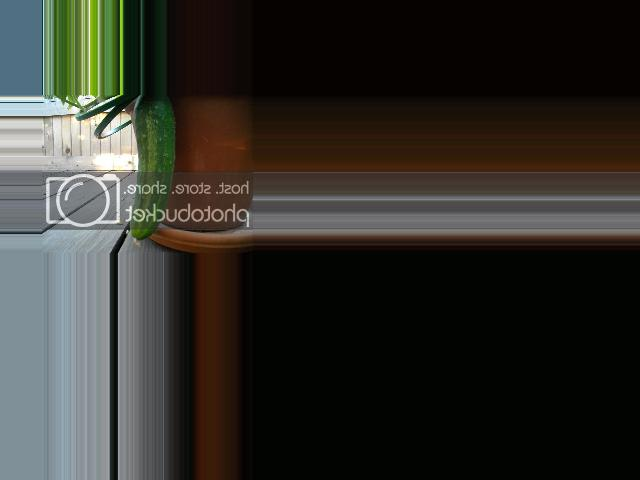cucumber: (129, 95, 174, 247)
